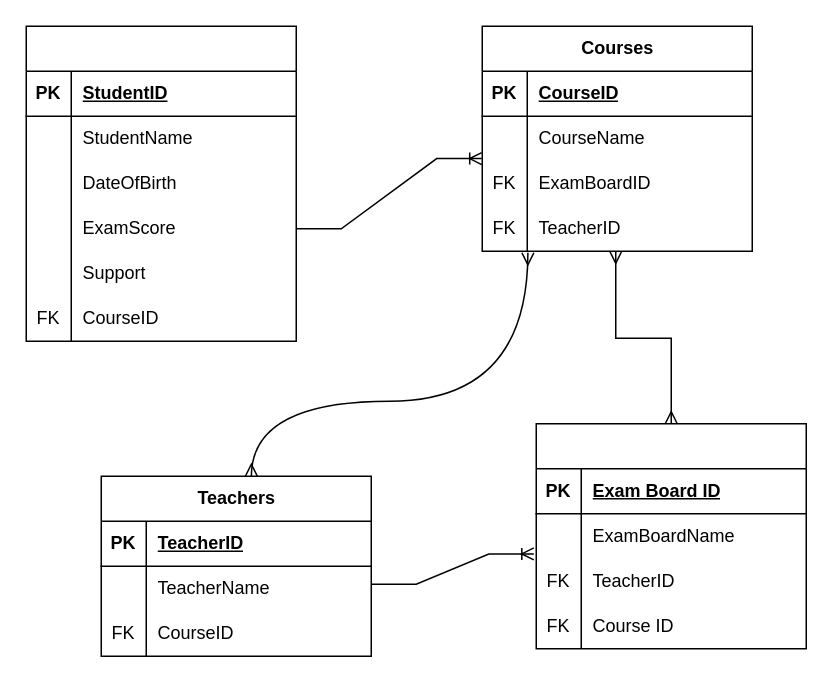
This 833x683 diagram has some shape labels left out. Here are the shapes that lost their labels. From the top down, the box of each, then its label:
(25, 25, 296, 341): Students
(535, 422, 806, 649): ExamBoards
